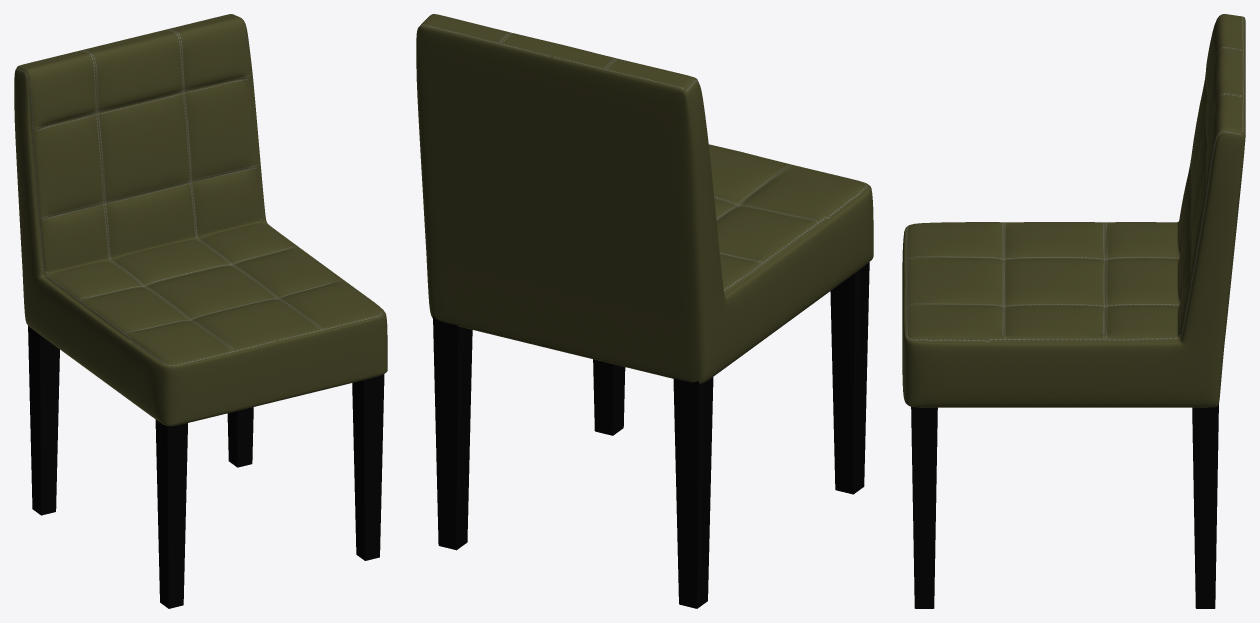
Rendered from chair_08_01.001.fbx.
3 renders of one model, left to right at view 1: azimuth 30°, elevation 25°; view 2: azimuth 150°, elevation 25°; view 3: azimuth 270°, elevation 25°, orthographic. The views are drawn at different scales.
Parts seen in each view (by area): view 1: chair_08_01.001; view 2: chair_08_01.001; view 3: chair_08_01.001.
Boxes of the visible parts, bbox=[...] form: chair_08_01.001: bbox=[14, 14, 387, 608]; chair_08_01.001: bbox=[416, 14, 873, 608]; chair_08_01.001: bbox=[902, 14, 1245, 608].
Size of the model in its own units: 45.76 by 82.78 by 53.51.
Materials: 1 (1 with a texture image).
